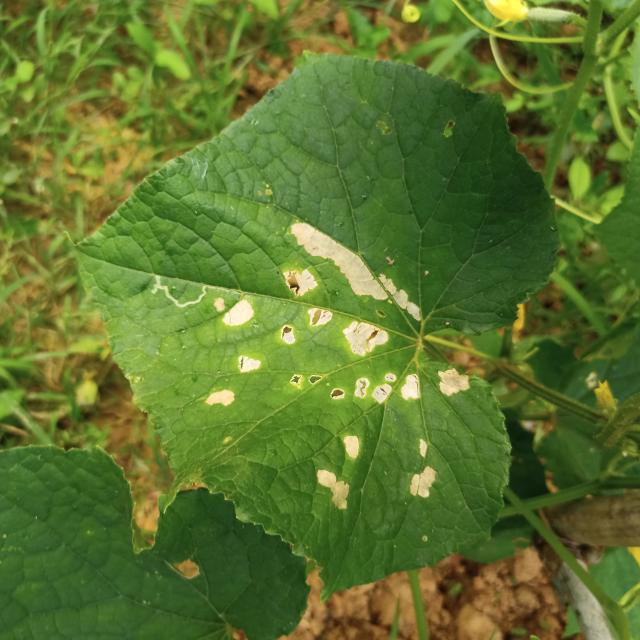disease_cucumber: (280, 218, 423, 356), (313, 432, 437, 520), (291, 364, 476, 417), (205, 296, 264, 410)
